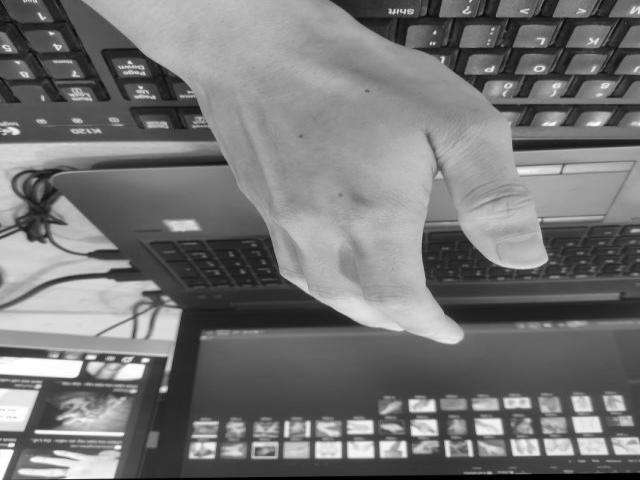not-gloved: (183, 0, 553, 345)
